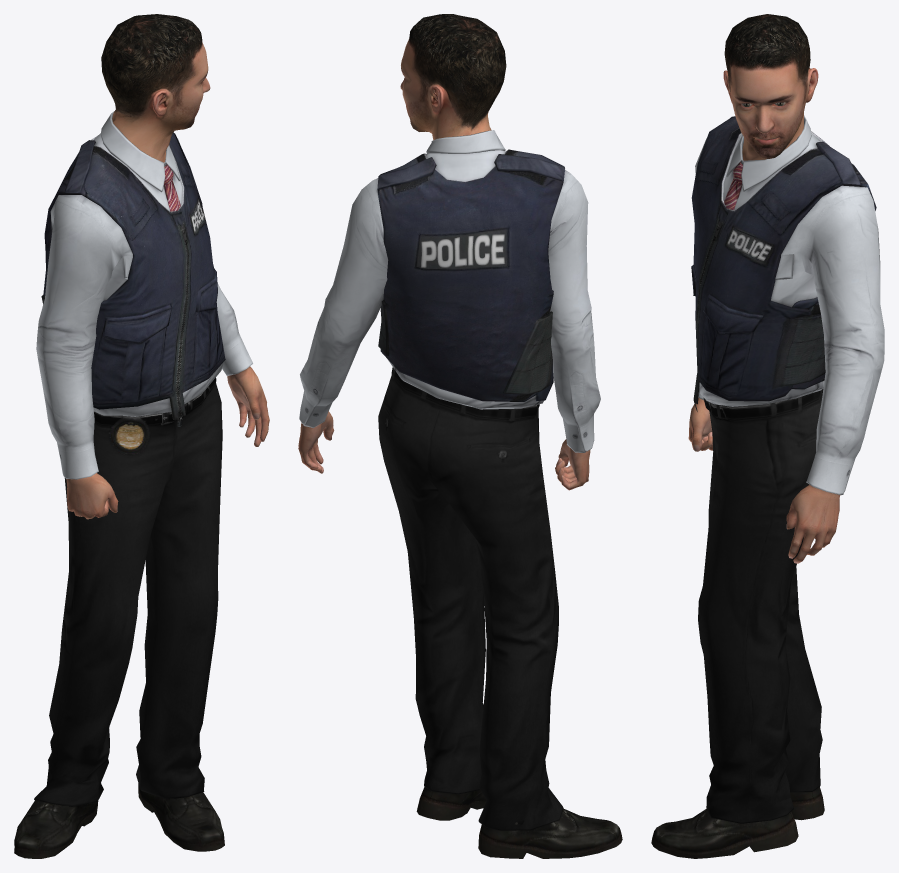
File: Detective_LookingAround.obj
3 renders of one model, left to right at view 1: azimuth 30°, elevation 25°; view 2: azimuth 150°, elevation 25°; view 3: azimuth 270°, elevation 25°, orthographic. The views are drawn at different scales.
Visible parts, largest first — view 1: Body, Head; view 2: Body, Head; view 3: Body, Head.
Boxes of the visible parts, x1,y1,x2,y2 form: Body: (14,111,269,858); Head: (101,14,210,162); Body: (298,130,622,858); Head: (400,14,506,140); Body: (651,115,884,858); Head: (723,14,818,160).
Bounding box in the file's own units: 0.6649 × 1.8 × 0.4635.
2 materials, 2 textured.
